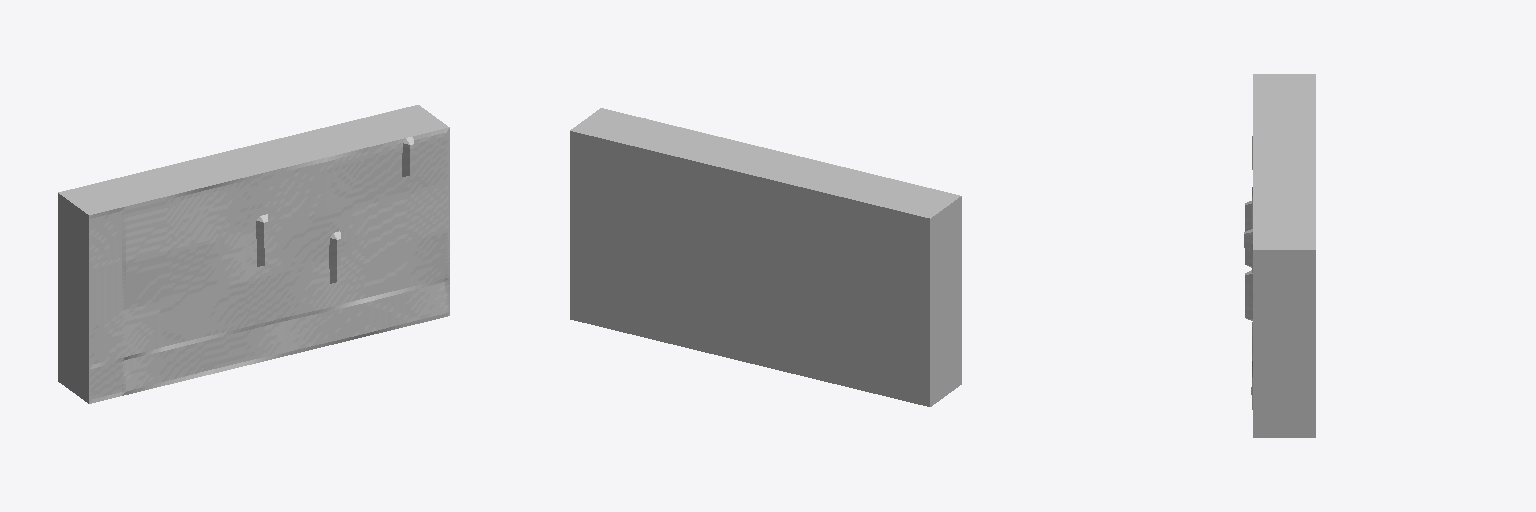
Rendered from rectangular_prism_bumps_4_3.obj.
3 renders of one model, left to right at view 1: azimuth 30°, elevation 25°; view 2: azimuth 150°, elevation 25°; view 3: azimuth 270°, elevation 25°, orthographic.
Size of the model in its own units: 10 by 5 by 1.72.